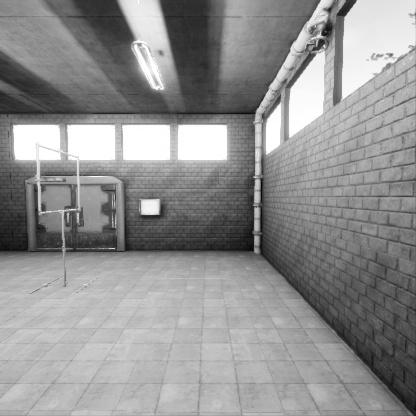gate: (35, 204, 81, 275)
